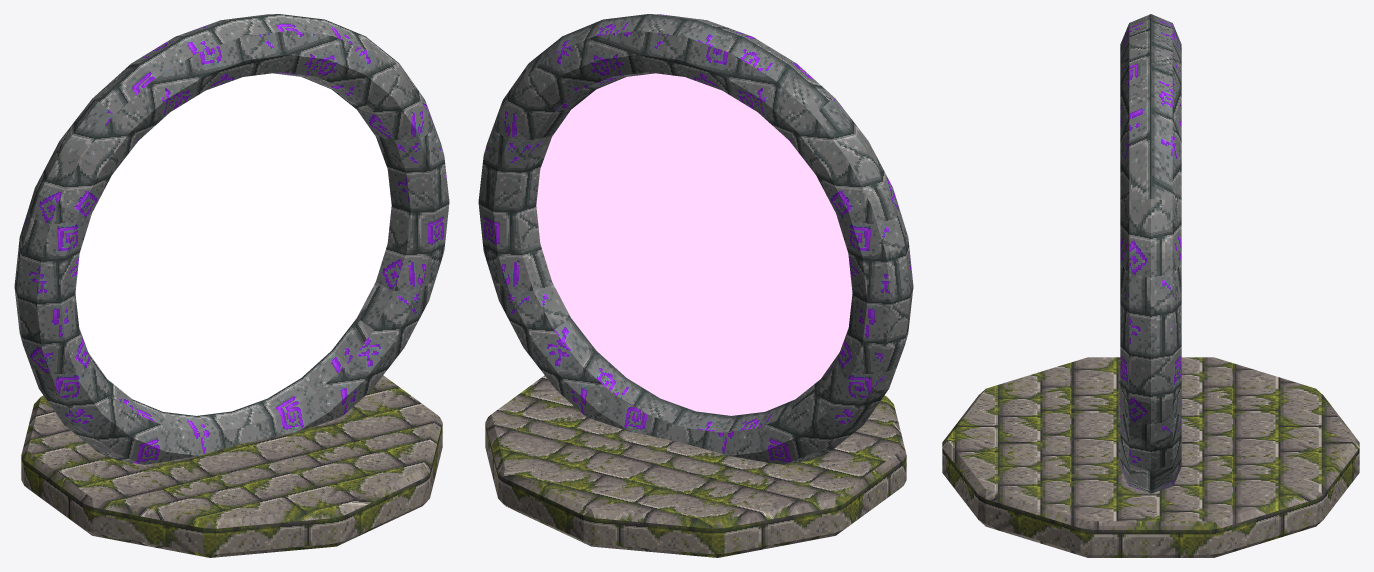
Rendered from portal.glb.
3 renders of one model, left to right at view 1: azimuth 30°, elevation 25°; view 2: azimuth 150°, elevation 25°; view 3: azimuth 270°, elevation 25°, orthographic. The views are drawn at different scales.
Visible parts, largest first — view 1: Disc, Ring, Base; view 2: Disc, Ring, Base; view 3: Base, Ring.
Boxes of the visible parts, <box> form: Disc: <box>75,73,391,415</box>; Ring: <box>14,14,449,464</box>; Base: <box>21,375,442,557</box>; Disc: <box>536,73,852,415</box>; Ring: <box>478,14,913,464</box>; Base: <box>485,375,906,557</box>; Base: <box>942,357,1359,557</box>; Ring: <box>1120,14,1181,493</box>.
Size of the model in its own units: 5.96 by 5.98 by 5.15.
Materials: 3 (2 with a texture image).
